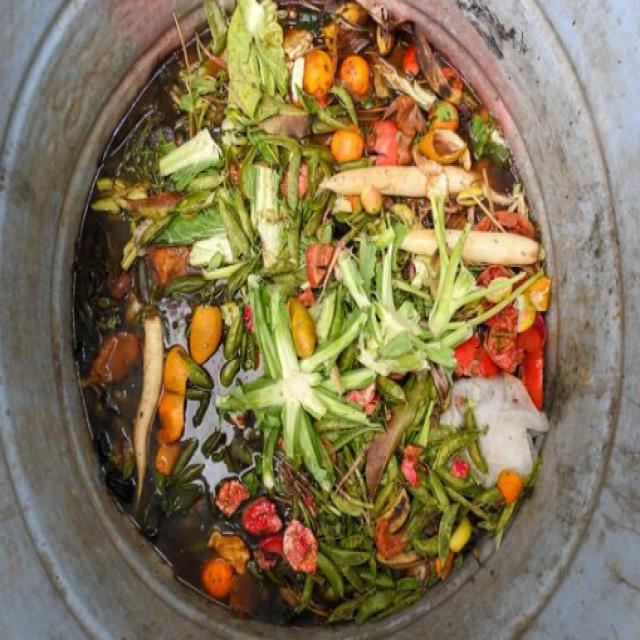paper: (261, 306, 361, 472), (313, 148, 486, 207), (245, 122, 308, 278), (183, 280, 235, 374)
